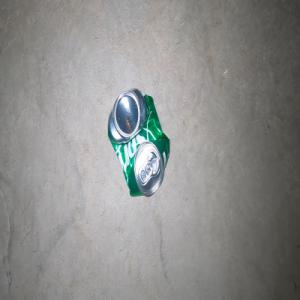SodaCan: (107, 87, 169, 196)
